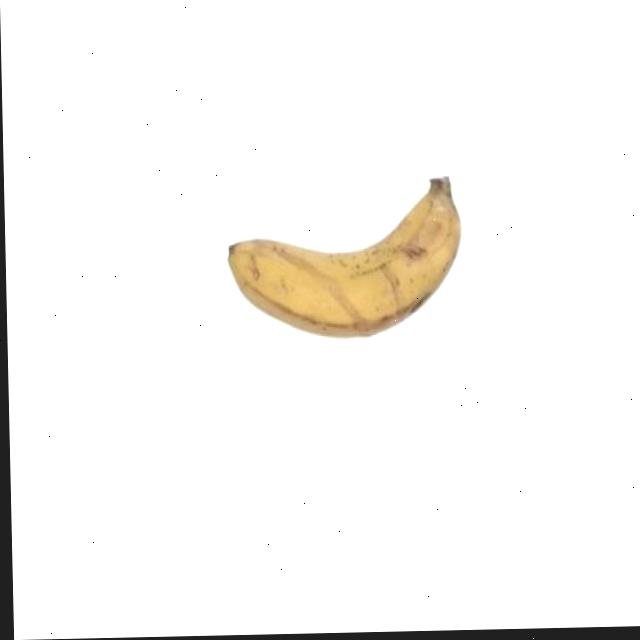banana: (221, 167, 474, 352)
